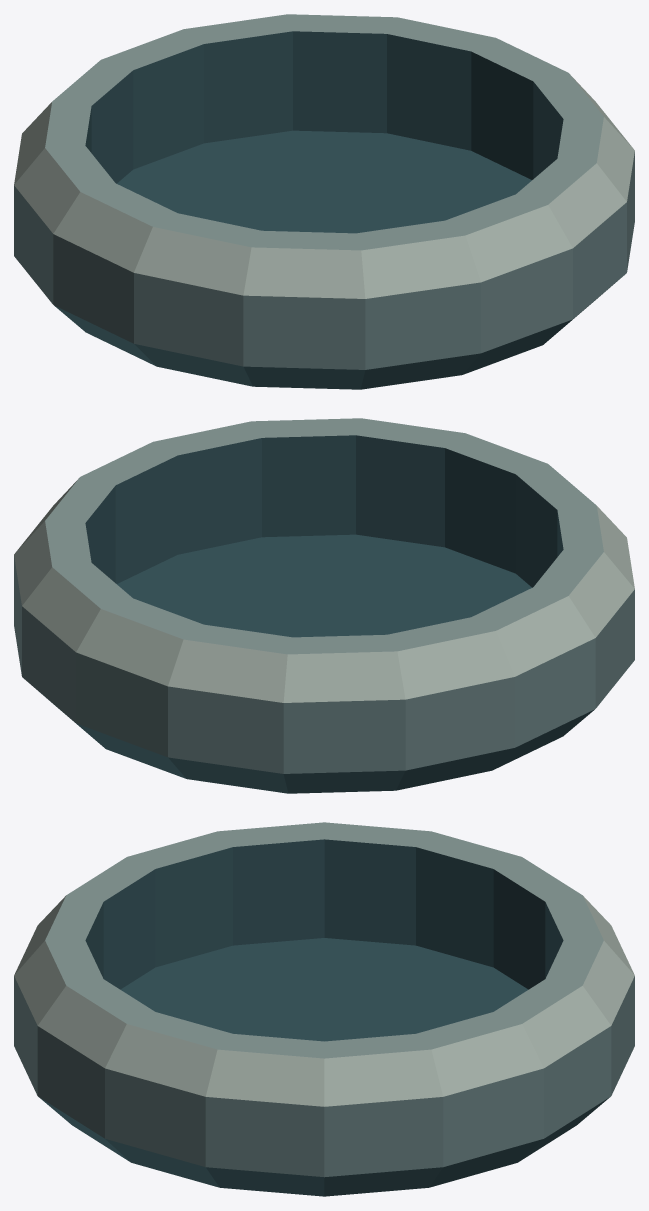
Rendered from basin.glb.
The picture shows the model from 3 angles, top to bottom: view 1: azimuth 30°, elevation 25°; view 2: azimuth 150°, elevation 25°; view 3: azimuth 270°, elevation 25°; orthographic projection.
Visible parts, largest first — view 1: basin__body; view 2: basin__body; view 3: basin__body.
Boxes of the visible parts, box(x1,y1,x2,y2) form: basin__body: box(14, 14, 634, 389); basin__body: box(14, 418, 634, 793); basin__body: box(14, 822, 634, 1196).
Size of the model in its own units: 1.6 by 0.4 by 1.6.
